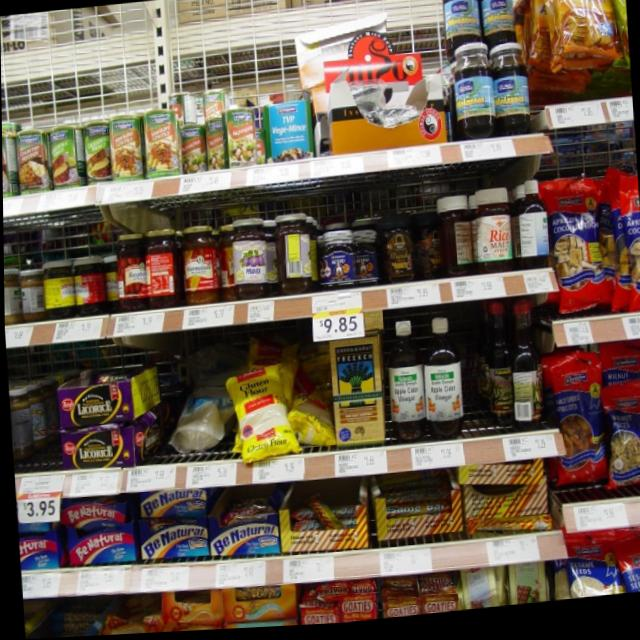q55: (326, 340, 387, 451)
